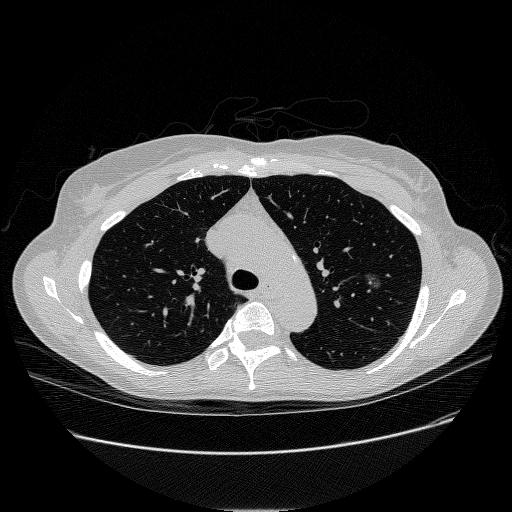nodule: (364, 271, 382, 289)
